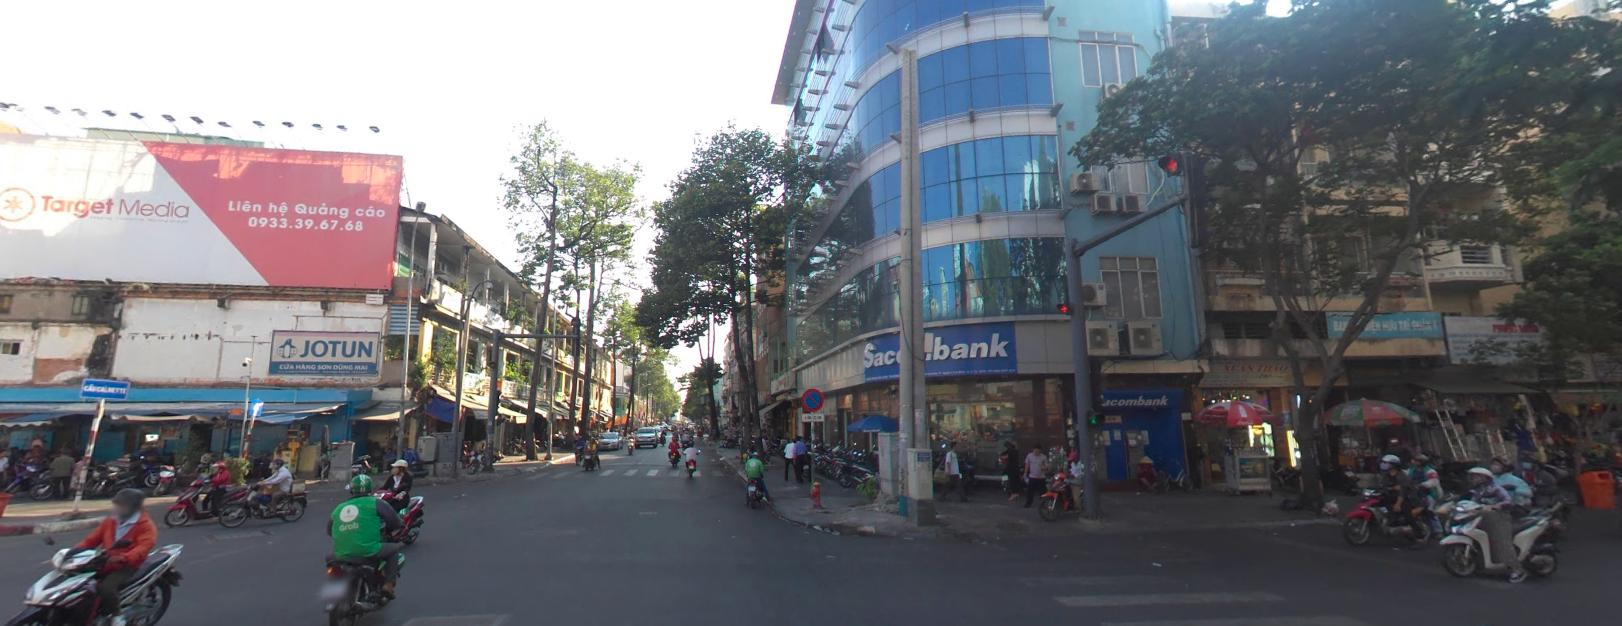Cam dung va do: (801, 384, 824, 410)
